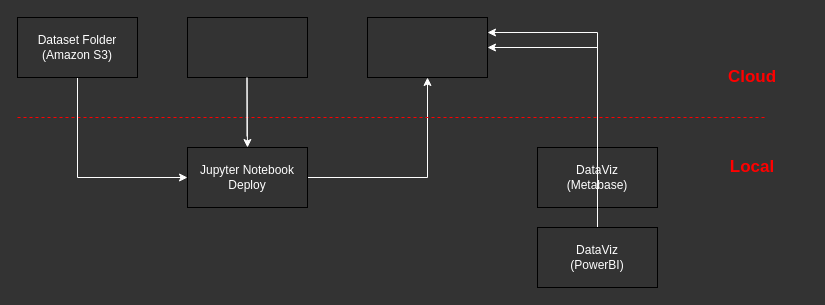
This 825x305 diagram has some shape labels left out. The shapes that lost their labels are listed below. From the top down, each one's centre as x and y in pixels, then its label:
(x=247, y=47): Cronjob (PaperMill)
(x=427, y=47): Banco de Dados (Postgres)
